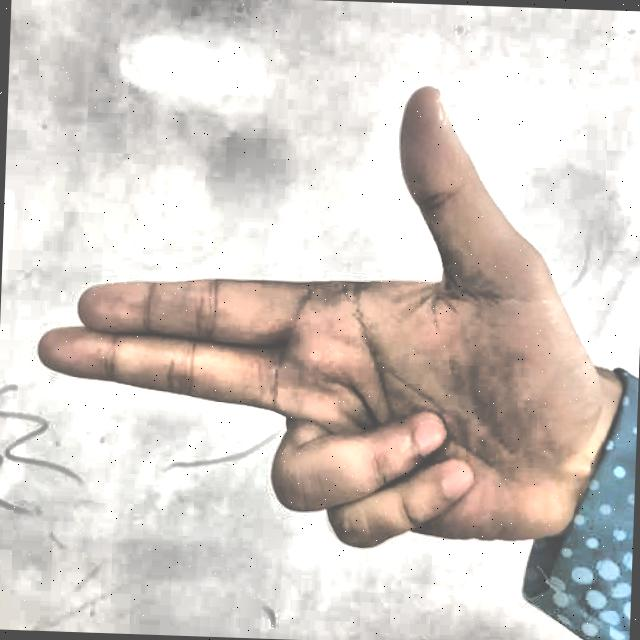Jha: (16, 38, 608, 640)
